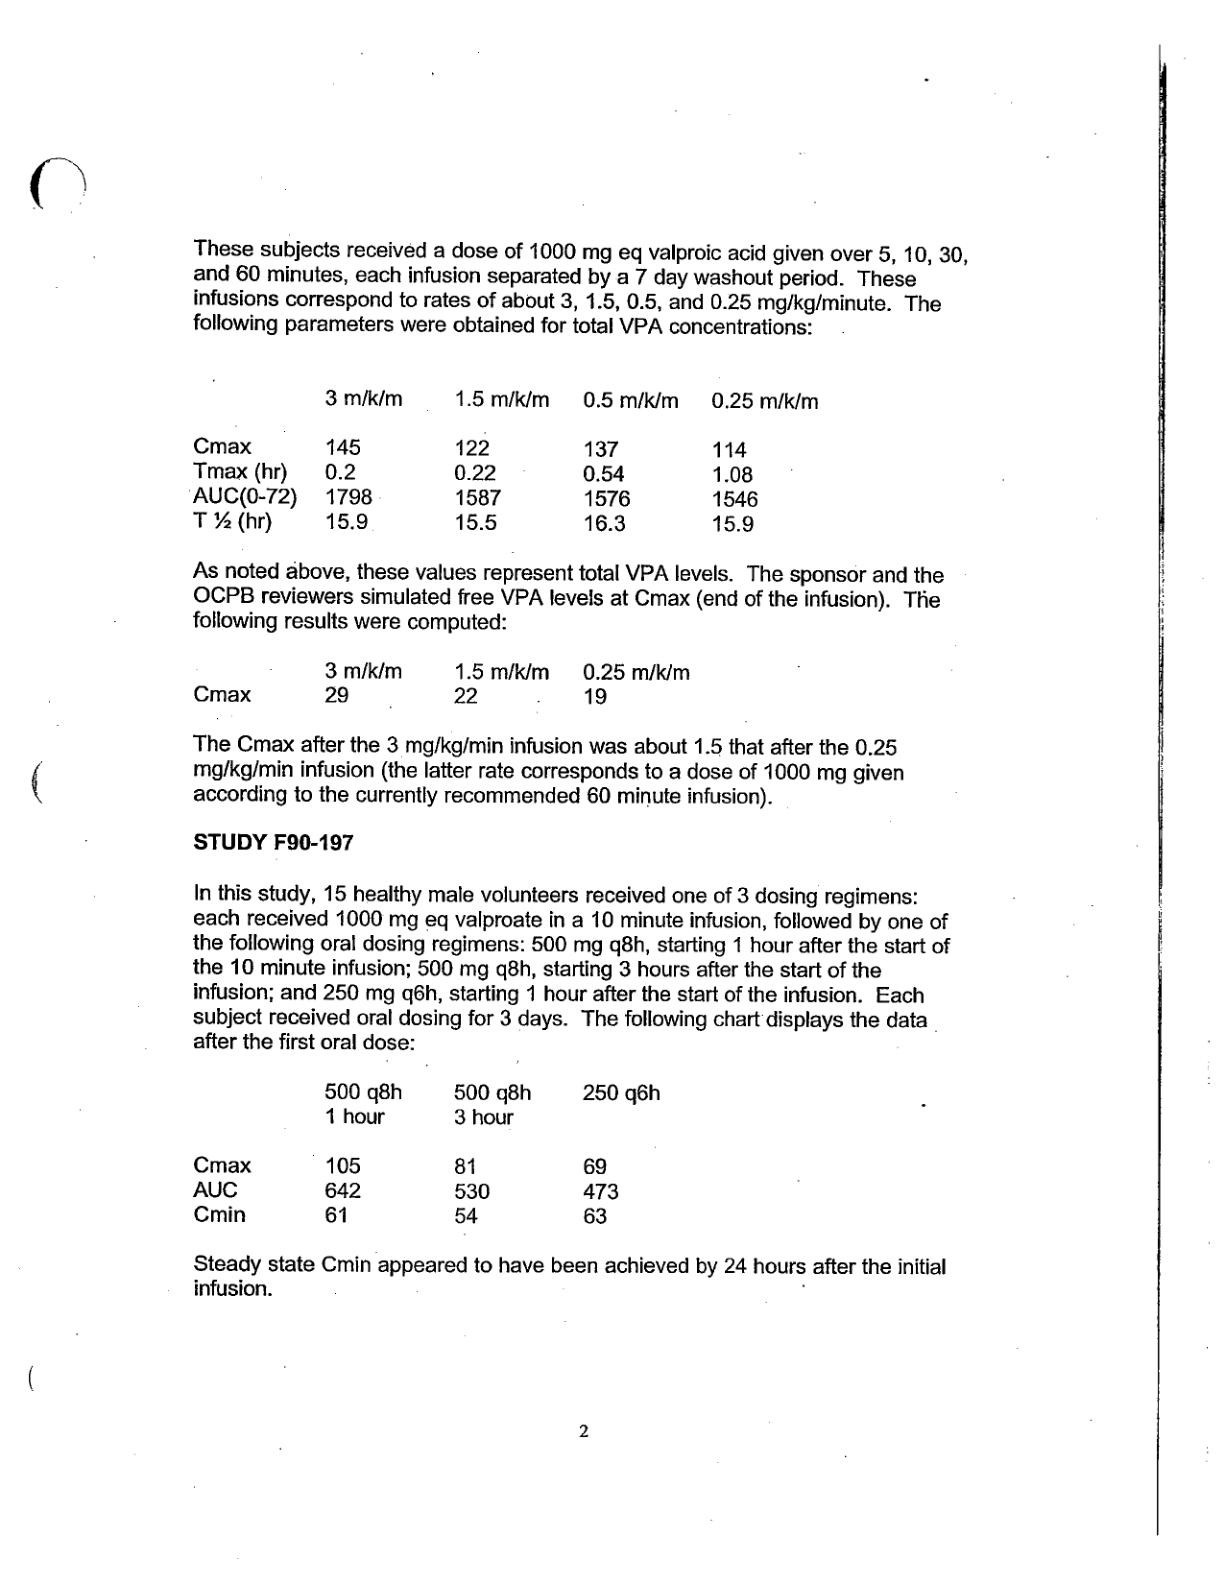nolines: (190, 384, 820, 534), (190, 1077, 663, 1227), (192, 660, 693, 706)
